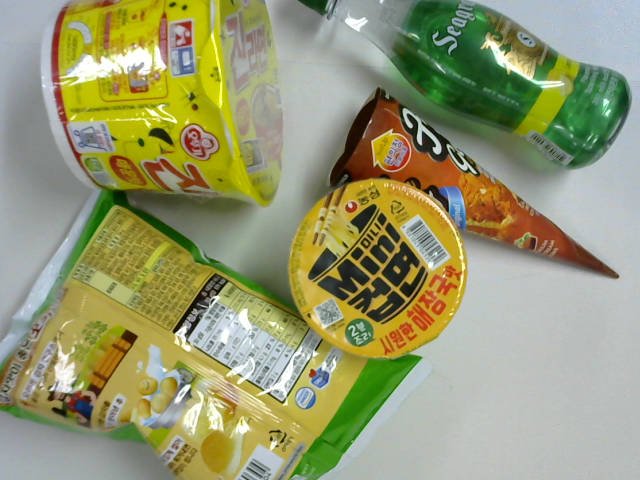GooGoo_Cone_CVS: (337, 86, 620, 281)
Hejangmini: (288, 176, 470, 356)
Jinlamyeon_Hot_Taste_Large_Cup: (42, 1, 287, 207)
Pocachip_Onion: (1, 180, 433, 480)
Seagram_Lemon_Carbonated_Water: (299, 1, 635, 171)
